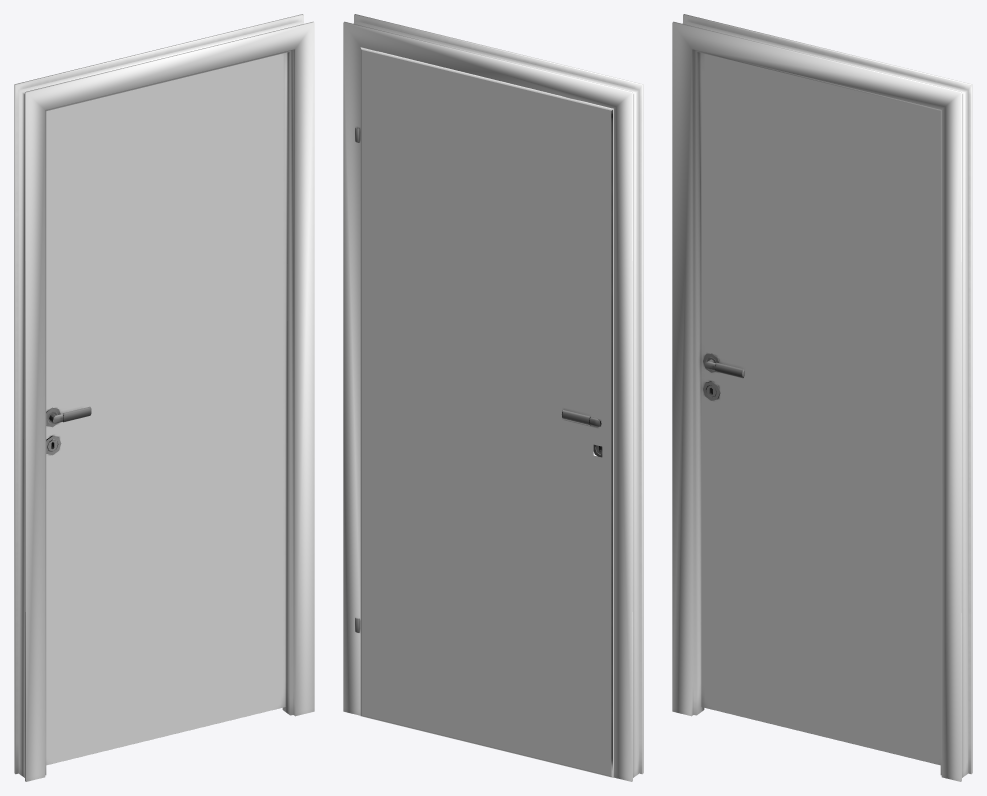
The model's file is closed-door28x80_baked.glb.
The picture shows the model from 3 angles, left to right: view 1: azimuth 30°, elevation 25°; view 2: azimuth 150°, elevation 25°; view 3: azimuth 330°, elevation 25°; orthographic projection.
Parts seen in each view (by area): view 1: Mesh_0.025; view 2: Mesh_0.025; view 3: Mesh_0.025.
Part boxes in pixels (bbox=[...]): Mesh_0.025: bbox=[14, 14, 314, 781]; Mesh_0.025: bbox=[343, 14, 643, 781]; Mesh_0.025: bbox=[672, 14, 972, 781].
Size of the model in its own units: 97.1 by 222 by 8.04.
Materials: 1 (1 with a texture image).
